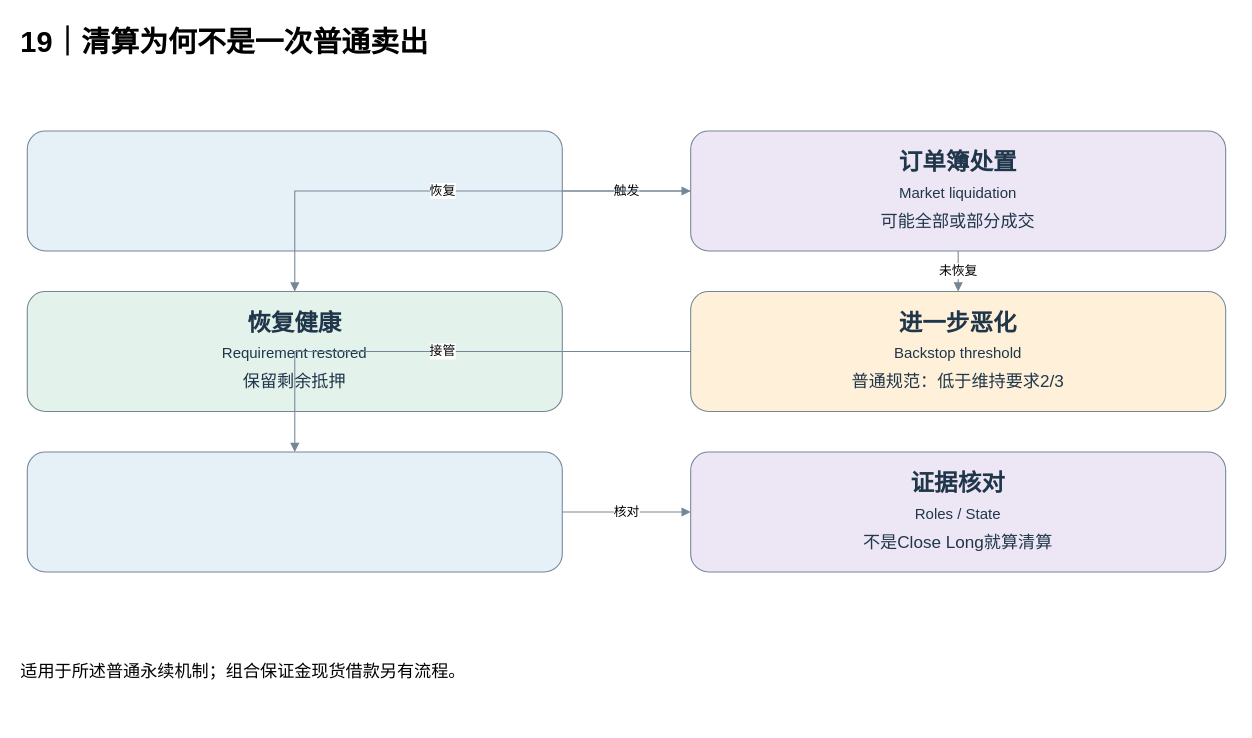
Some shapes in this 1252 by 738 pixel diagram are drawn without their labels. The centre of each missing label's shape, as x and y in pixels:
"后备接管 Backstop takeover 迁移相应仓位与抵押" belongs at point 294,511.
"风险不足 Below maintenance 适用账户范围，Mark估值" belongs at point 294,190.
